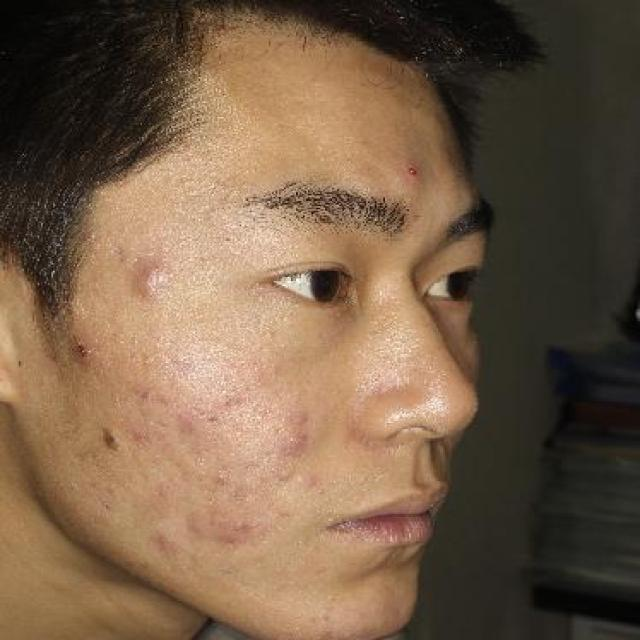Acne: (118, 255, 178, 308), (92, 424, 130, 456), (281, 428, 315, 462)
Blackheads: (390, 154, 431, 186), (65, 335, 96, 371)
